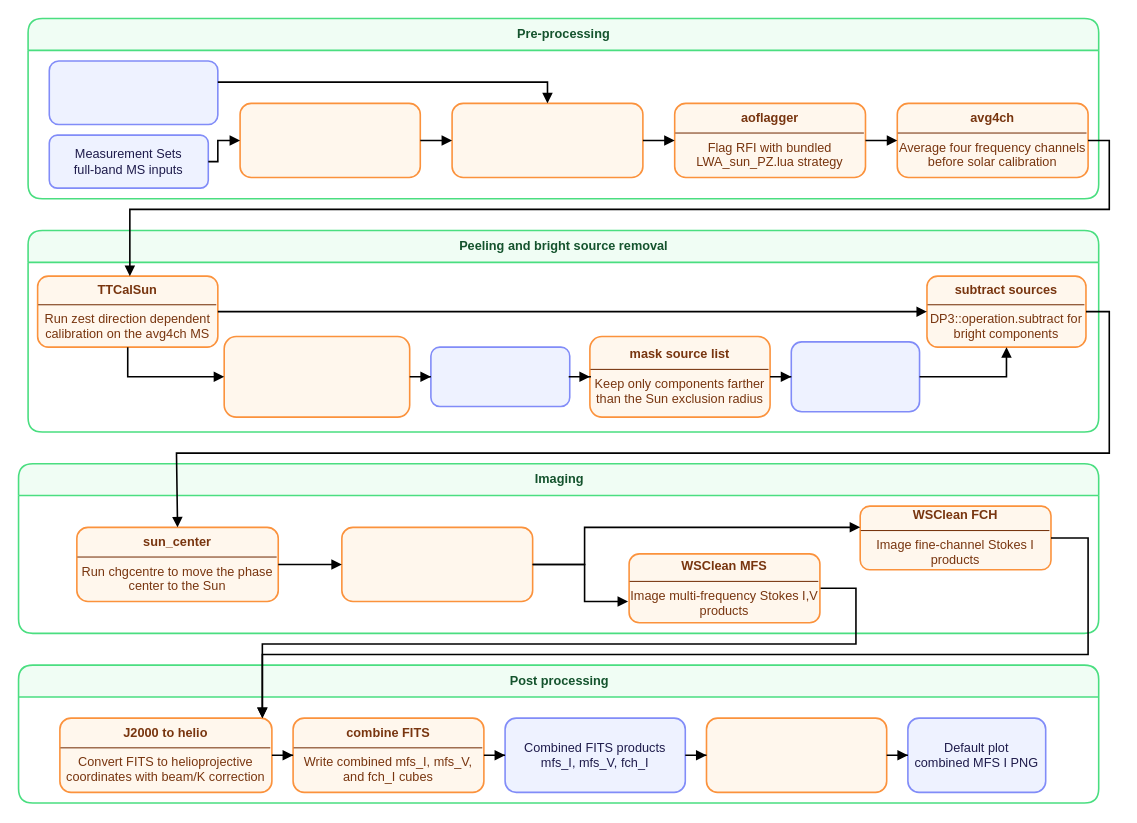
Some shapes in this 1137 by 823 pixel diagram are drawn without their labels. The shapes that lost their labels are listed below. From the top down, each one's centre as x and y in pixels, then its label:
At (133,92): "Bandpass calibration tables DP3 H5Parm per band".
At (330,140): "Copy MS Create one per-band working Measurement Set".
At (547,140): "applycal Apply H5Parm bandpass calibration".
At (316,376): "source-list WSClean Make temporary full-sky model and save component list".
At (500,376): "WSClean sources.txt all clean components".
At (855,376): "Far-Sun sources.txt components selected for subtraction".
At (437,564): "avg4ch Average four channels again after phase centering at Sun".
At (796,755): "plot MFS I Create the default combined MFS Stokes I quicklook".
